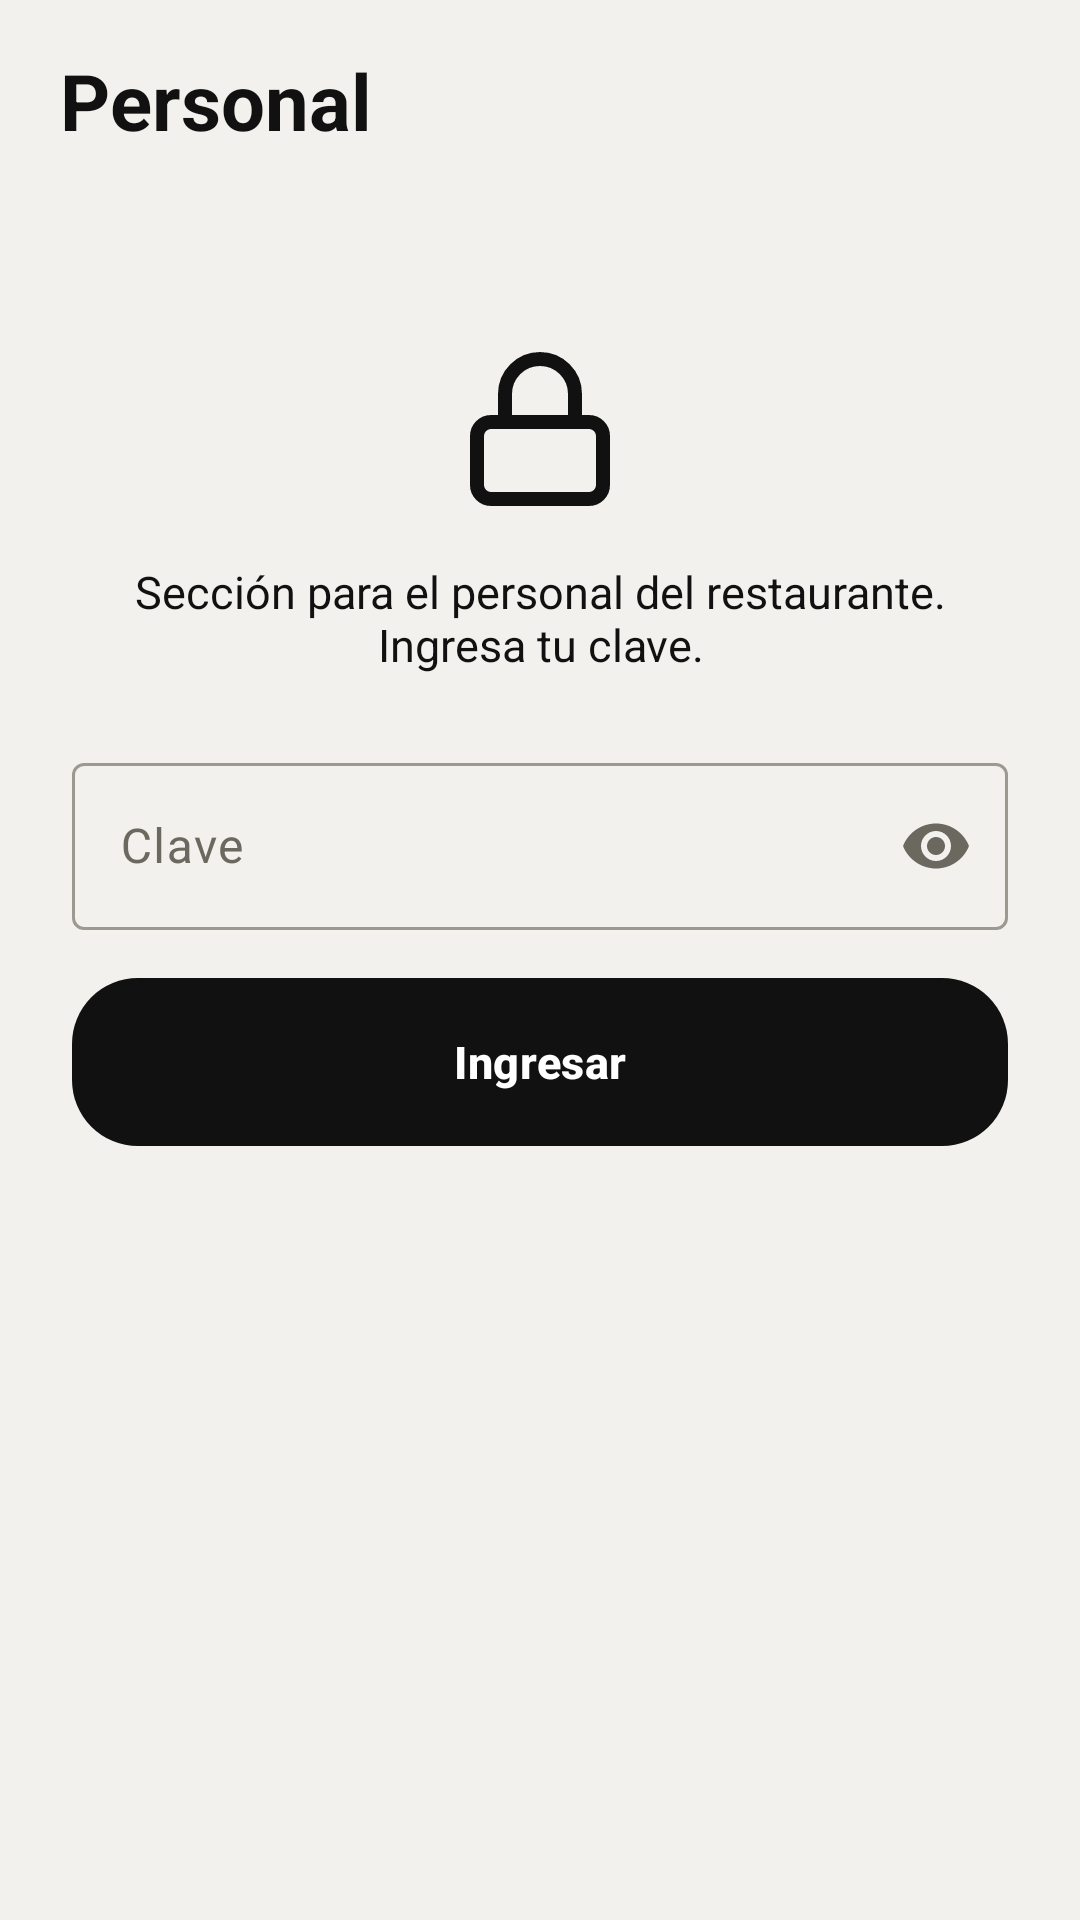

Named icons in this screenshot (1080 x 1920) and their bounding boxes, (x1, y1, x2, y2):
lock: (470, 352, 610, 506)
